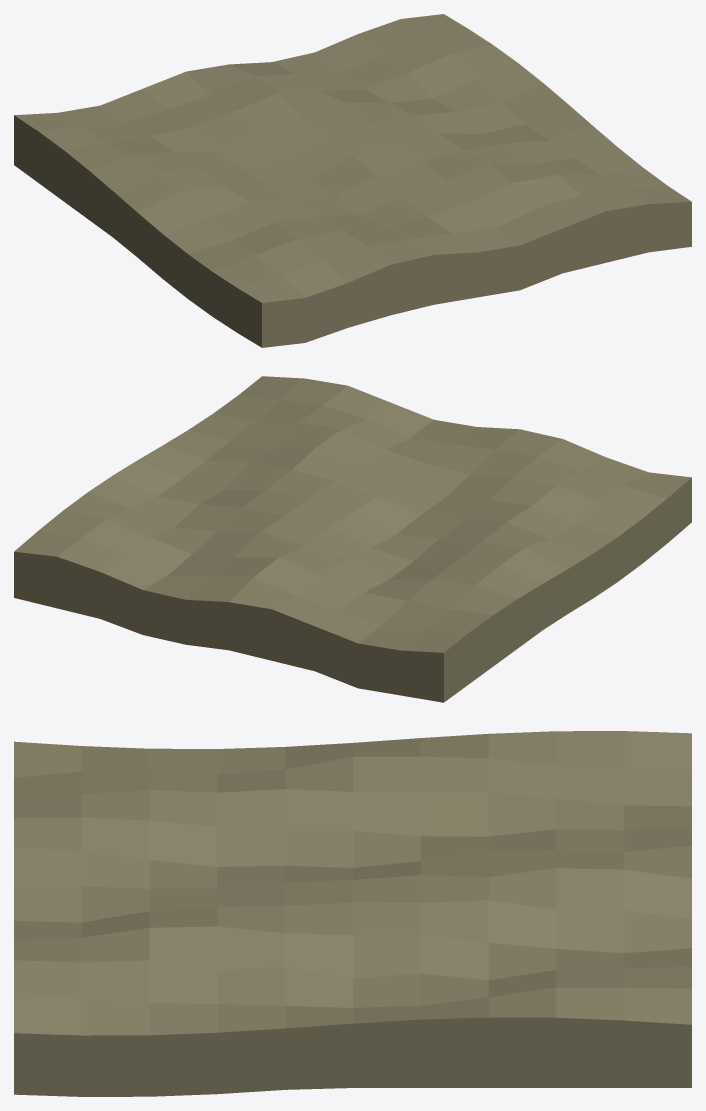
Rendered from ground_sand_b.glb.
3 views of the same model, one above another, from view 1: azimuth 30°, elevation 25°; view 2: azimuth 150°, elevation 25°; view 3: azimuth 270°, elevation 25° (orthographic). The views are drawn at different scales.
Parts seen in each view (by area): view 1: ground_sand_b; view 2: ground_sand_b; view 3: ground_sand_b.
Part boxes in pixels (x1=…): ground_sand_b: x1=14, y1=14, x2=691, y2=347; ground_sand_b: x1=14, y1=376, x2=691, y2=702; ground_sand_b: x1=14, y1=731, x2=691, y2=1096.
Size of the model in its own units: 6 by 0.8375 by 6.
